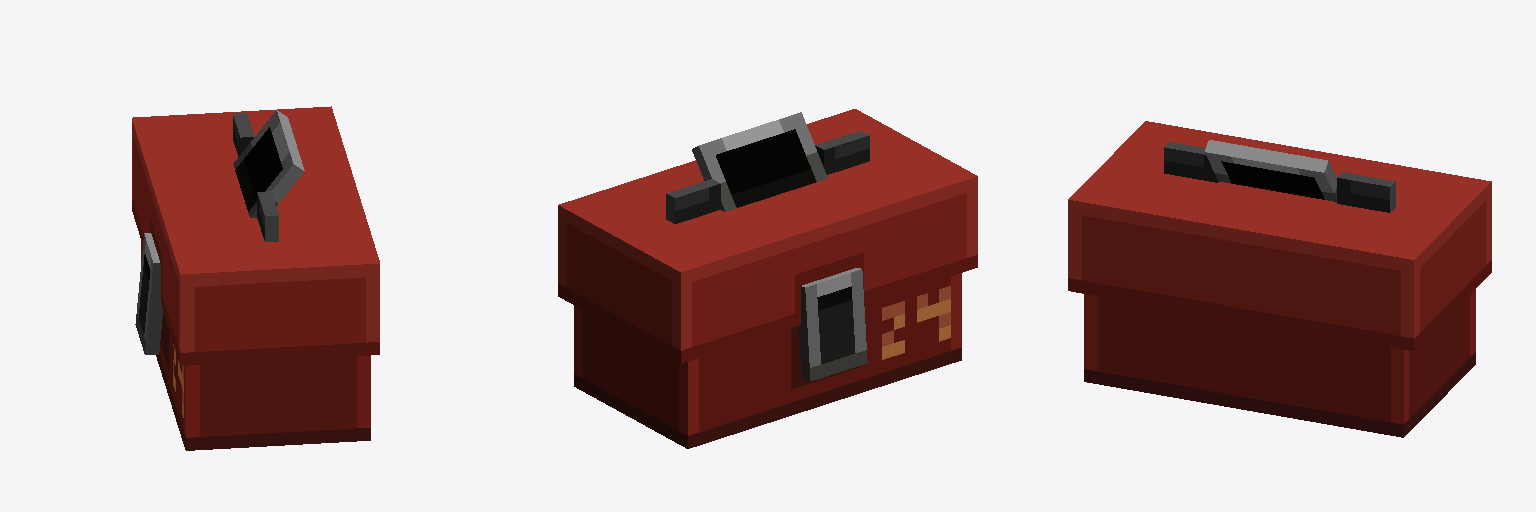
3 renders of one model, left to right at view 1: azimuth 30°, elevation 25°; view 2: azimuth 150°, elevation 25°; view 3: azimuth 270°, elevation 25°, orthographic.
Parts seen in each view (by area): view 1: box, handle, lock, hinge; view 2: box, handle, lock, hinge; view 3: box, handle, hinge.
Part boxes in pixels (left/top/right/bottom): box: left=132, top=106, right=379, bottom=450; handle: left=233, top=110, right=304, bottom=217; lock: left=135, top=233, right=162, bottom=354; hinge: left=233, top=113, right=278, bottom=241; box: left=558, top=109, right=977, bottom=448; handle: left=692, top=112, right=827, bottom=211; lock: left=799, top=268, right=867, bottom=381; hinge: left=666, top=131, right=869, bottom=223; box: left=1068, top=121, right=1491, bottom=437; handle: left=1205, top=140, right=1336, bottom=201; hinge: left=1164, top=142, right=1395, bottom=212.
Bounding box in the file's own units: 1.07 × 0.8427 × 1.38.
Materials: 1 (1 with a texture image).